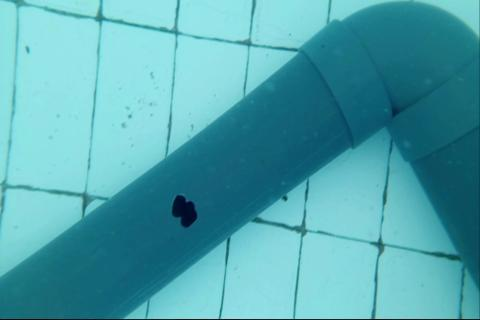kebocoran: (169, 193, 198, 229)
